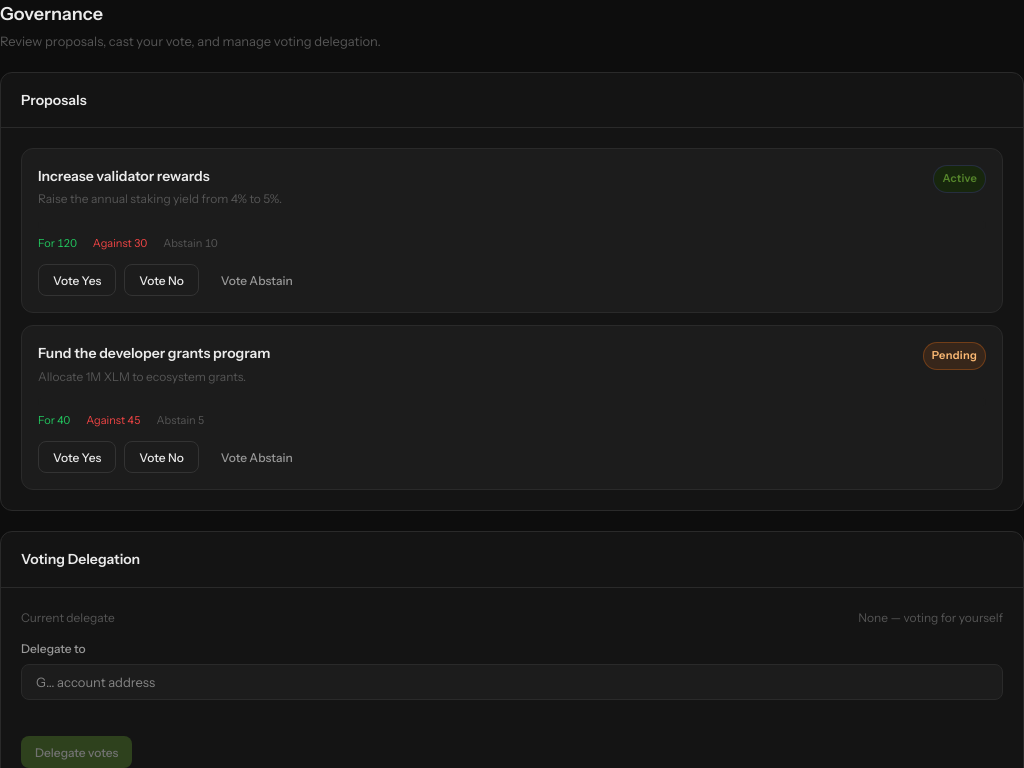
Test case: GovernanceDashboard › vote casting › keeps the dialog open and shows an error when the vote fails
Expected: the heading "Increase validator rewards" is shown, [38,167,210,185]
Click the button "Vote No" below "120" at (162, 280), box [124,264,199,296]
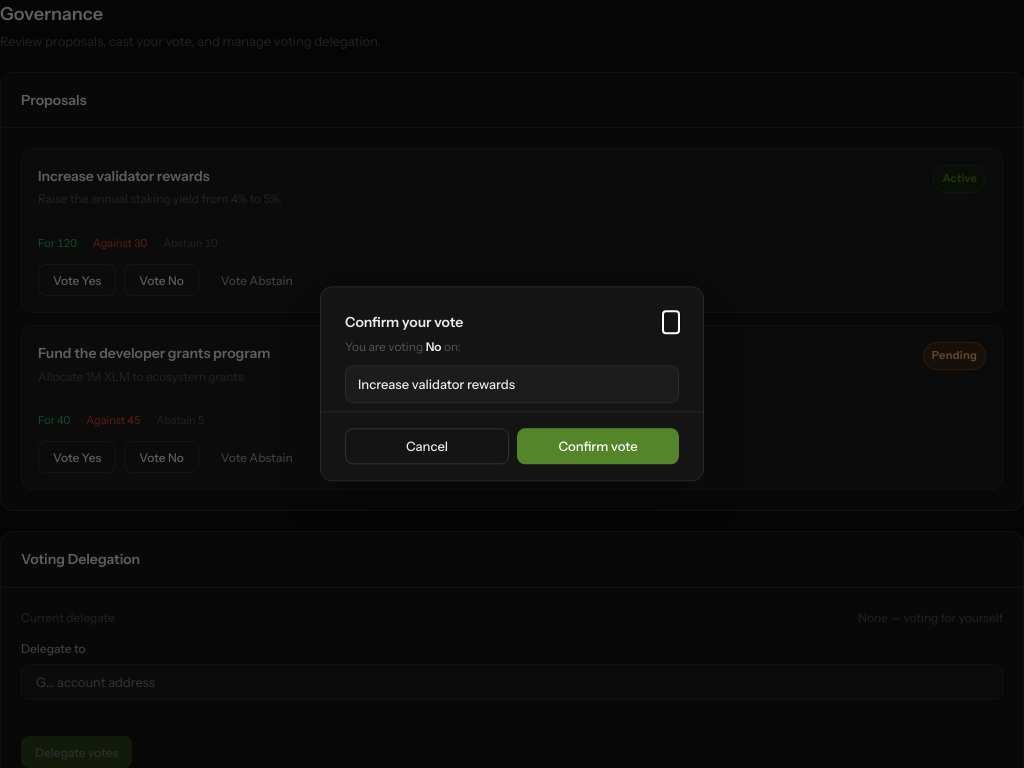
Click the button "Confirm vote" at (598, 447), box [517,429,679,465]
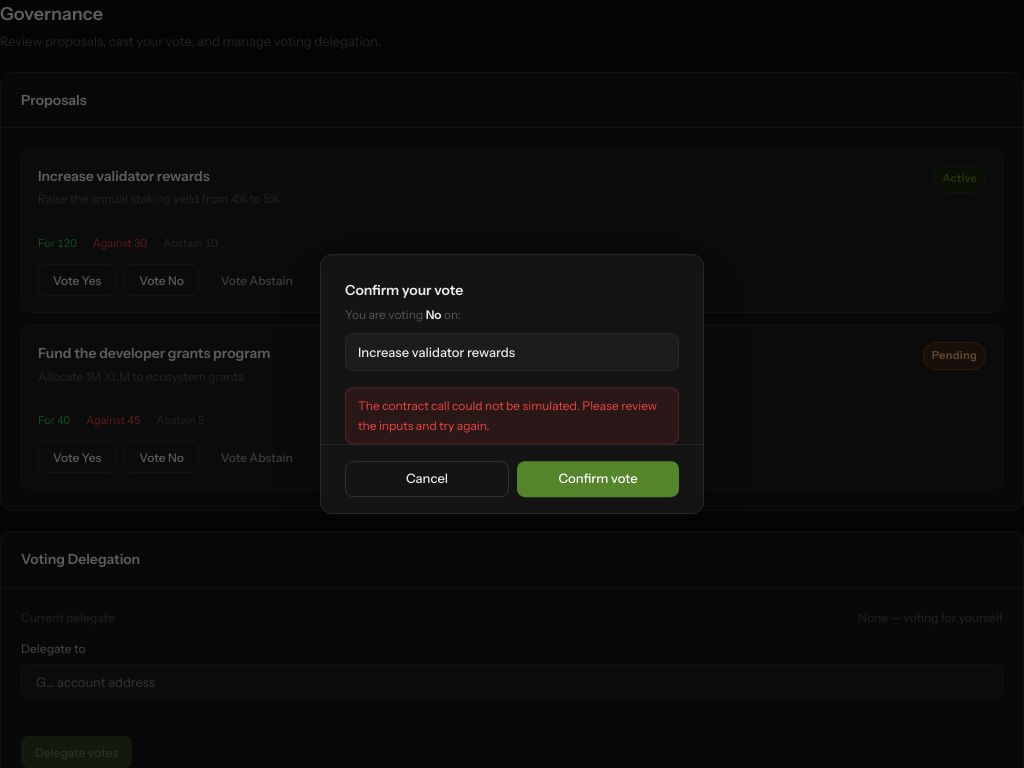
Now the dialog is shown, box [320,254,704,514]
Now the message shows "could not be simulated", box [358,398,657,433]
